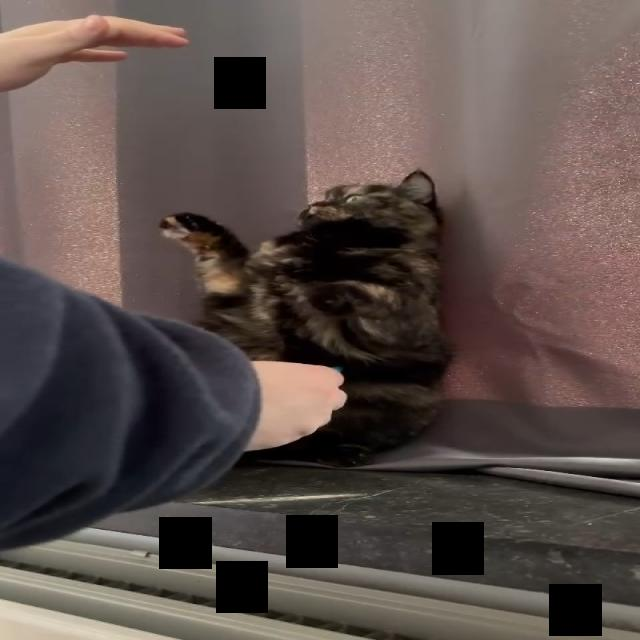authorized: (157, 167, 456, 468)
